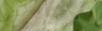Tomato leaf late blight: (2, 0, 92, 31)
